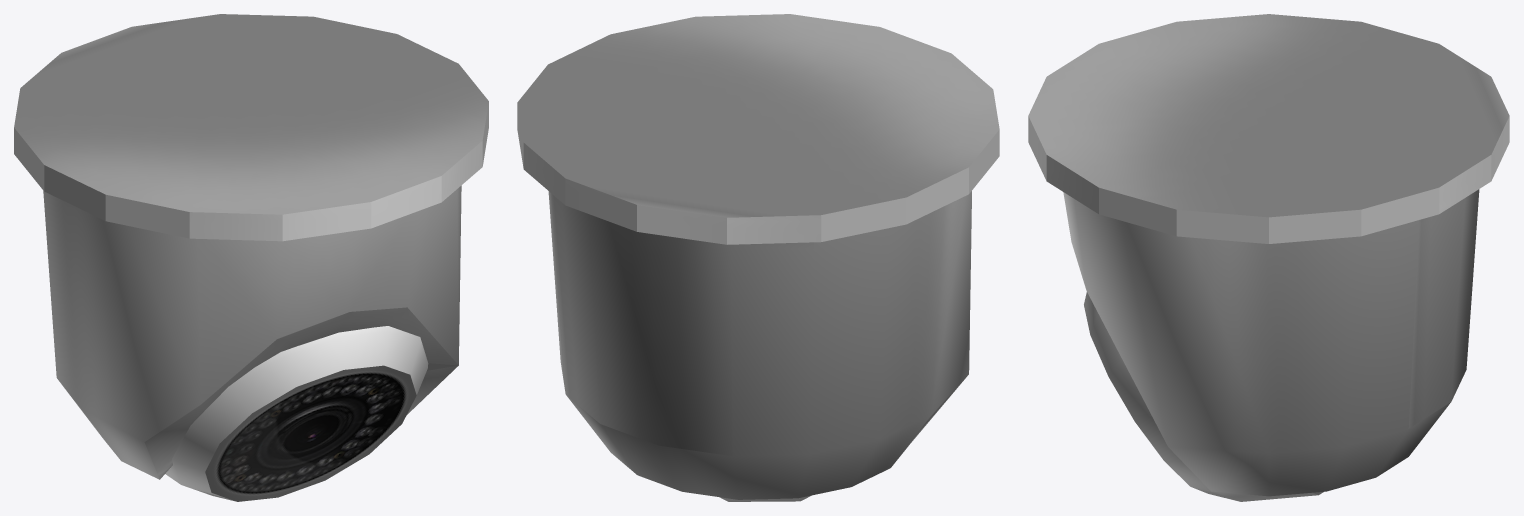
File: cctvNvx6375r.gltf
The picture shows the model from 3 angles, left to right: view 1: azimuth 30°, elevation 25°; view 2: azimuth 150°, elevation 25°; view 3: azimuth 270°, elevation 25°; orthographic projection.
Visible parts, largest first — view 1: cctvNvx6375r; view 2: cctvNvx6375r; view 3: cctvNvx6375r.
Part boxes in pixels (x1,y1,x2,y2): cctvNvx6375r: (14,14,488,501); cctvNvx6375r: (517,14,999,501); cctvNvx6375r: (1028,14,1509,501).
Size of the model in its own units: 1.69 by 1.44 by 1.69.
Materials: 1 (1 with a texture image).
